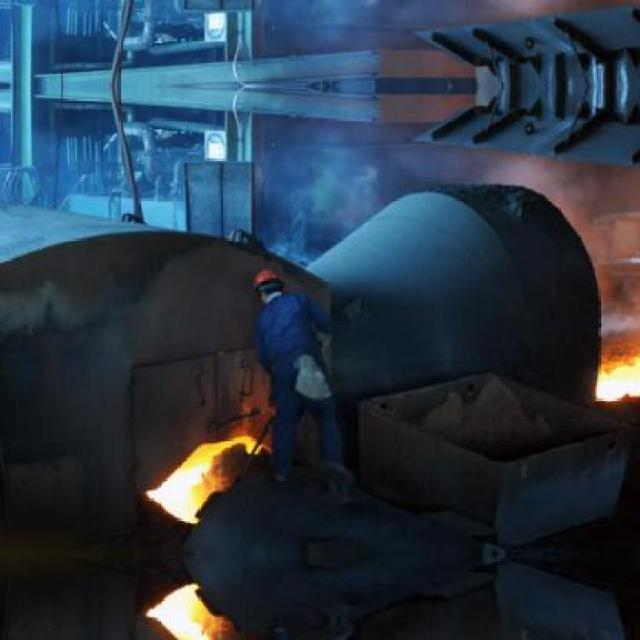helmet: (249, 266, 286, 306)
